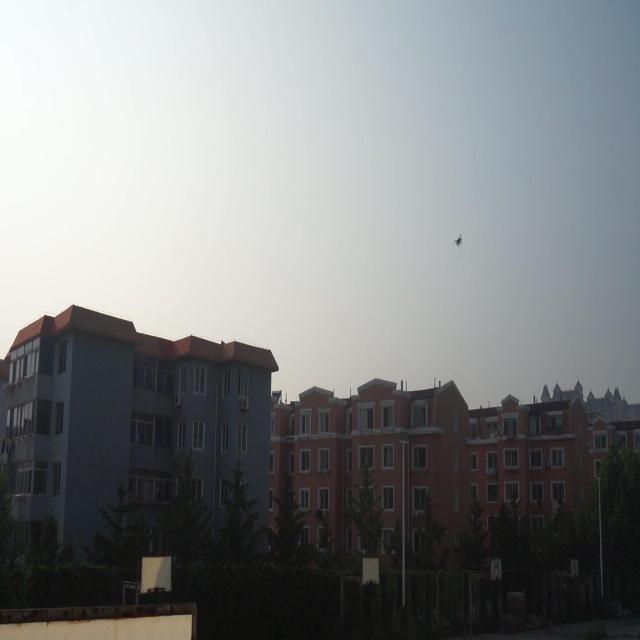drone: (452, 230, 466, 252)
